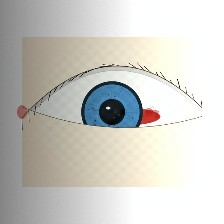hemorrhage_spot: (72, 76, 174, 157)
